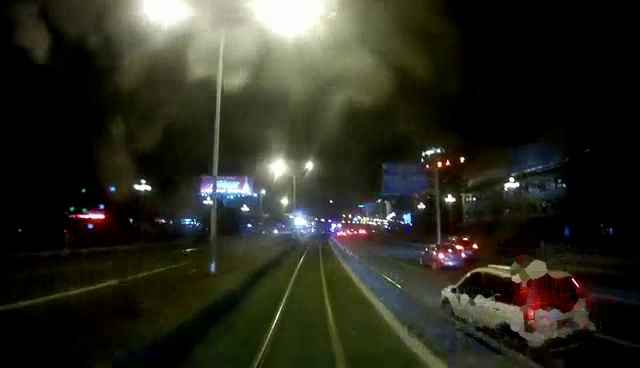car: (439, 265, 602, 346), (417, 243, 465, 270), (444, 234, 486, 260)
